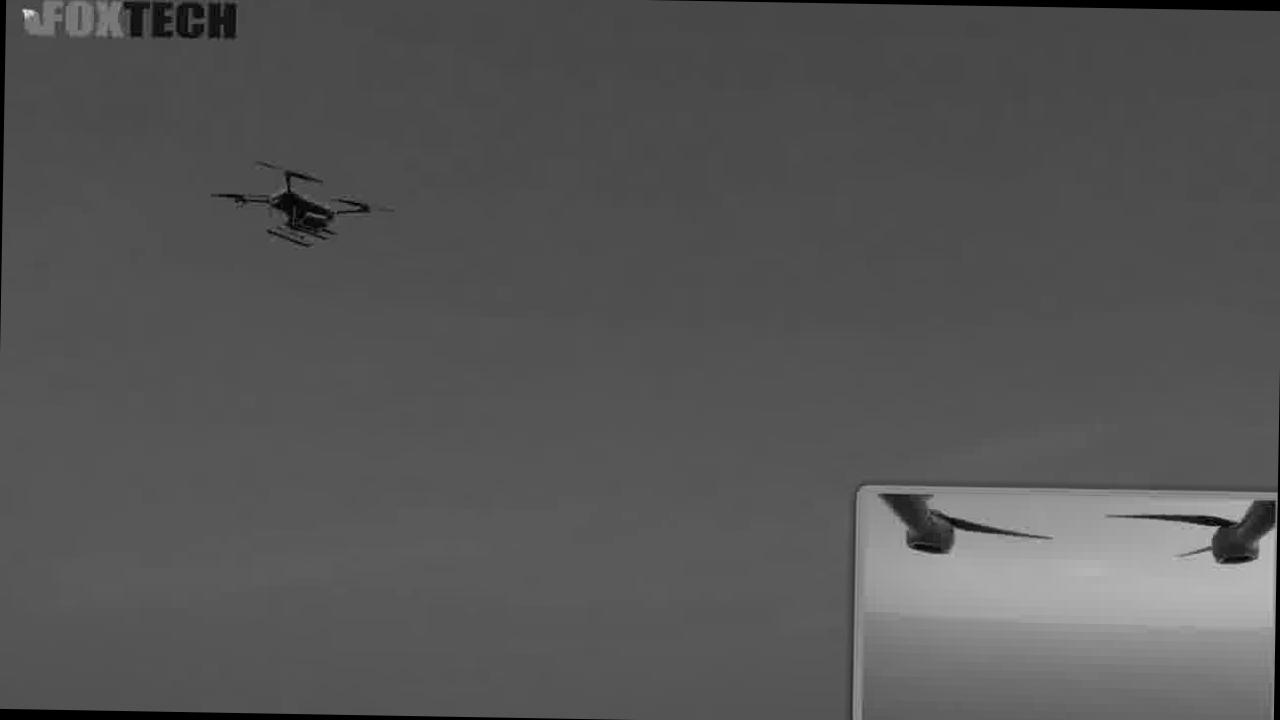drone: (213, 150, 400, 266)
